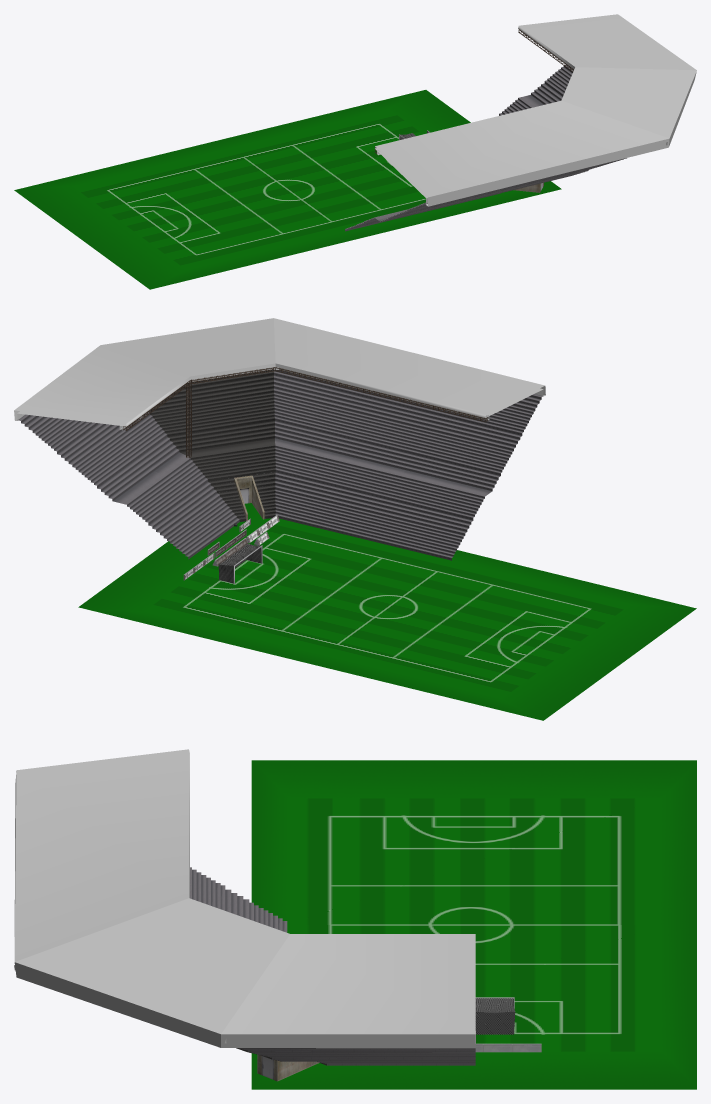
The model's file is Football_2.fbx.
3 renders of one model, top to bottom at view 1: azimuth 30°, elevation 25°; view 2: azimuth 150°, elevation 25°; view 3: azimuth 270°, elevation 25°, orthographic. The views are drawn at different scales.
Visible parts, largest first — view 1: Ground, Roof_10, Steps; view 2: Ground, Steps, Roof_10, Piller_metal_3, polySurface30, Net; view 3: Ground, Roof_10, Steps, Net, polySurface30, Ads_boards2.
Part boxes in pixels (x1,y1,x2,y2): Ground: (14, 90, 561, 289); Roof_10: (375, 14, 696, 206); Steps: (345, 64, 626, 231); Ground: (78, 503, 696, 720); Steps: (18, 370, 542, 560); Roof_10: (14, 318, 545, 426); Piller_metal_3: (275, 367, 488, 422); polySurface30: (234, 475, 264, 520); Net: (218, 543, 260, 583); Ground: (251, 760, 696, 1089); Roof_10: (14, 749, 475, 1048); Steps: (190, 867, 475, 1065); Net: (475, 998, 515, 1034); polySurface30: (257, 1054, 319, 1081); Ads_boards2: (475, 1043, 541, 1052).
Size of the model in its own units: 213 by 40.77 by 143.
